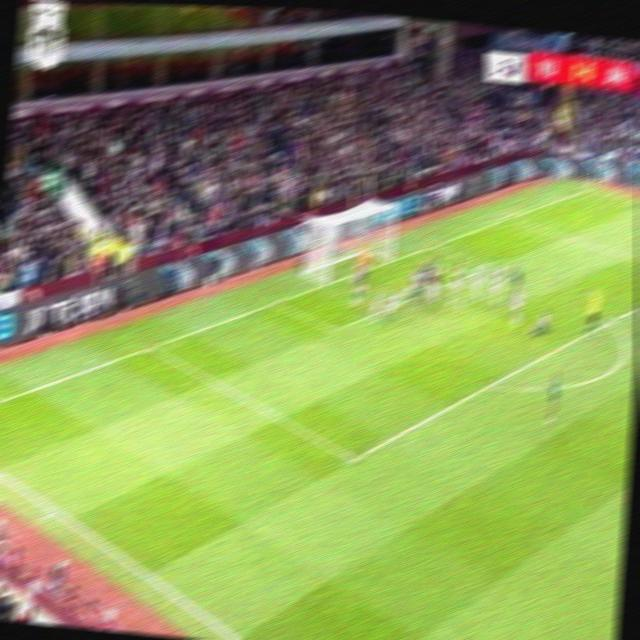bigarea_bottom_inner: (342, 445, 366, 469)
bigarea_bottom_outter: (141, 337, 162, 355)
bigarea_top_outter: (501, 209, 520, 224)
bottom_arc_area_intersection: (479, 373, 501, 396)
corner: (583, 180, 603, 194)
smallarea_bottom_inner: (325, 317, 345, 339)
smallarea_bottom_outter: (267, 292, 287, 310)
smallarea_top_inner: (481, 258, 499, 274)
smallarea_top_outter: (425, 235, 445, 253)
top_arc_area_intersection: (603, 311, 621, 329)
